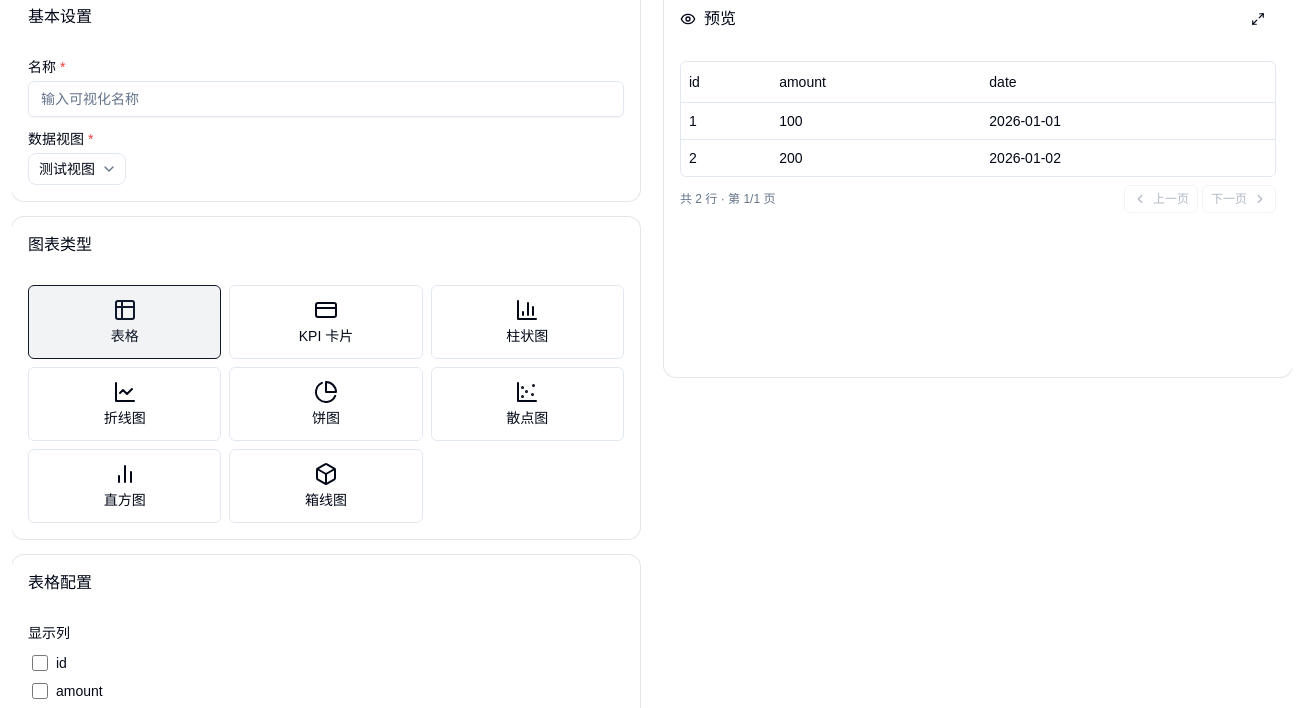
Test: VisualizationBuilderPage › shows the bar aggregation selector when 柱状图 is selected
Click the button "柱状图" at {"x": 527, "y": 322}, box [431,285,624,359]
(page scrolled)
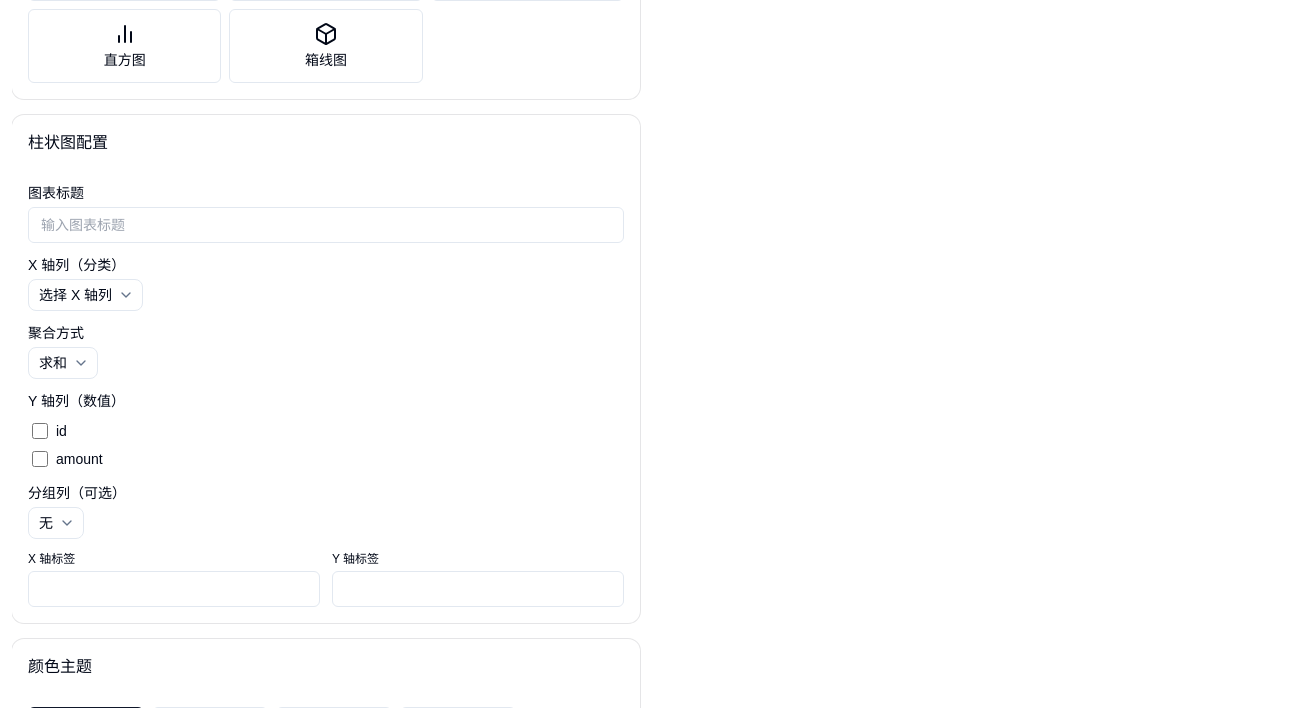
Expected: the text "柱状图配置" is shown, [28,134,108,151]
Expected: the text "聚合方式" is shown, [28,325,84,341]
